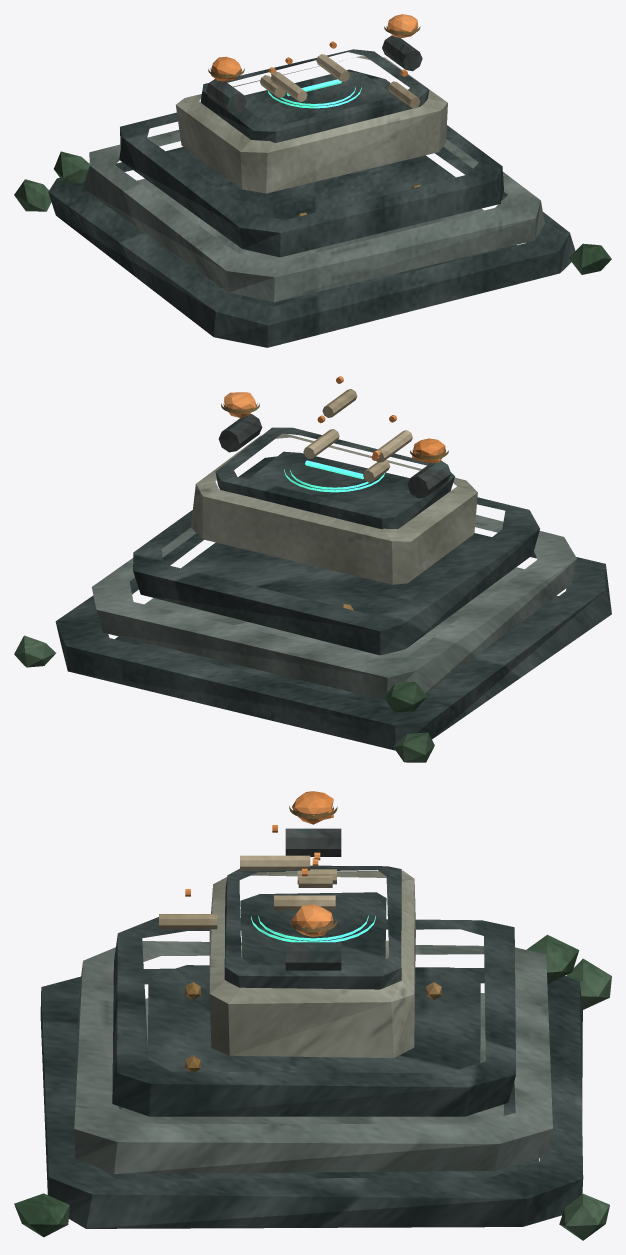
File: 0470_altar_20.glb
3 views of the same model, one above another, from view 1: azimuth 30°, elevation 25°; view 2: azimuth 150°, elevation 25°; view 3: azimuth 270°, elevation 25° (orthographic). The views are drawn at different scales.
Parts seen in each view (by area): view 1: stone_dark, stone, stone_light, moss, iron, bone, amber, glow; view 2: stone_dark, stone, stone_light, moss, iron, bone, amber, glow; view 3: stone_dark, stone, stone_light, moss, bone, iron, amber, brass, glow.
Part boxes in pixels (x1,y1,x2,y2): stone_dark: (48, 49, 575, 347); stone: (83, 130, 544, 302); stone_light: (176, 56, 447, 193); moss: (14, 151, 611, 274); iron: (206, 35, 422, 114); bone: (260, 54, 420, 108); amber: (211, 14, 418, 81); glow: (267, 79, 361, 108); stone_dark: (55, 427, 611, 750); stone: (91, 514, 576, 699); stone_light: (191, 433, 477, 584); moss: (14, 635, 434, 762); iron: (218, 414, 450, 498); bone: (303, 389, 412, 482); amber: (224, 376, 445, 462); glow: (284, 460, 384, 492); stone_dark: (40, 865, 583, 1228); stone: (74, 941, 552, 1173); stone_light: (209, 870, 415, 1057); moss: (14, 934, 611, 1240); bone: (159, 855, 336, 929); iron: (285, 828, 341, 970); amber: (185, 791, 333, 936); brass: (185, 806, 441, 1071); glow: (251, 915, 375, 942).
Bounding box in the file's own units: 2.55 × 1.28 × 2.58.
9 materials, 9 textured.
